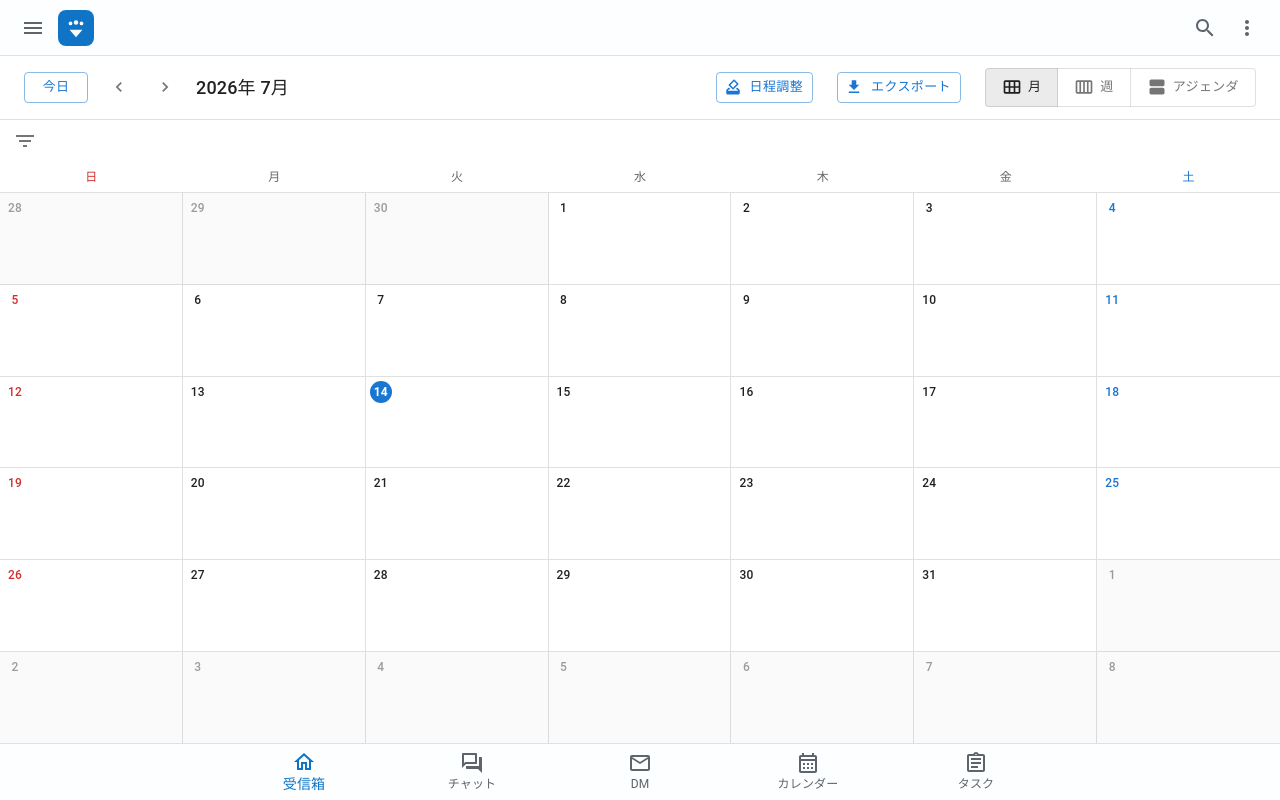
Test case: CalendarPage: モバイルレイアウト › ChannelFilterPanel の表示制御 › モバイル幅でフィルターボタンをタップすると ChannelFilterPanel が Drawer として開く
Click the button named "フィルター" at (25, 141), box [8, 124, 42, 158]
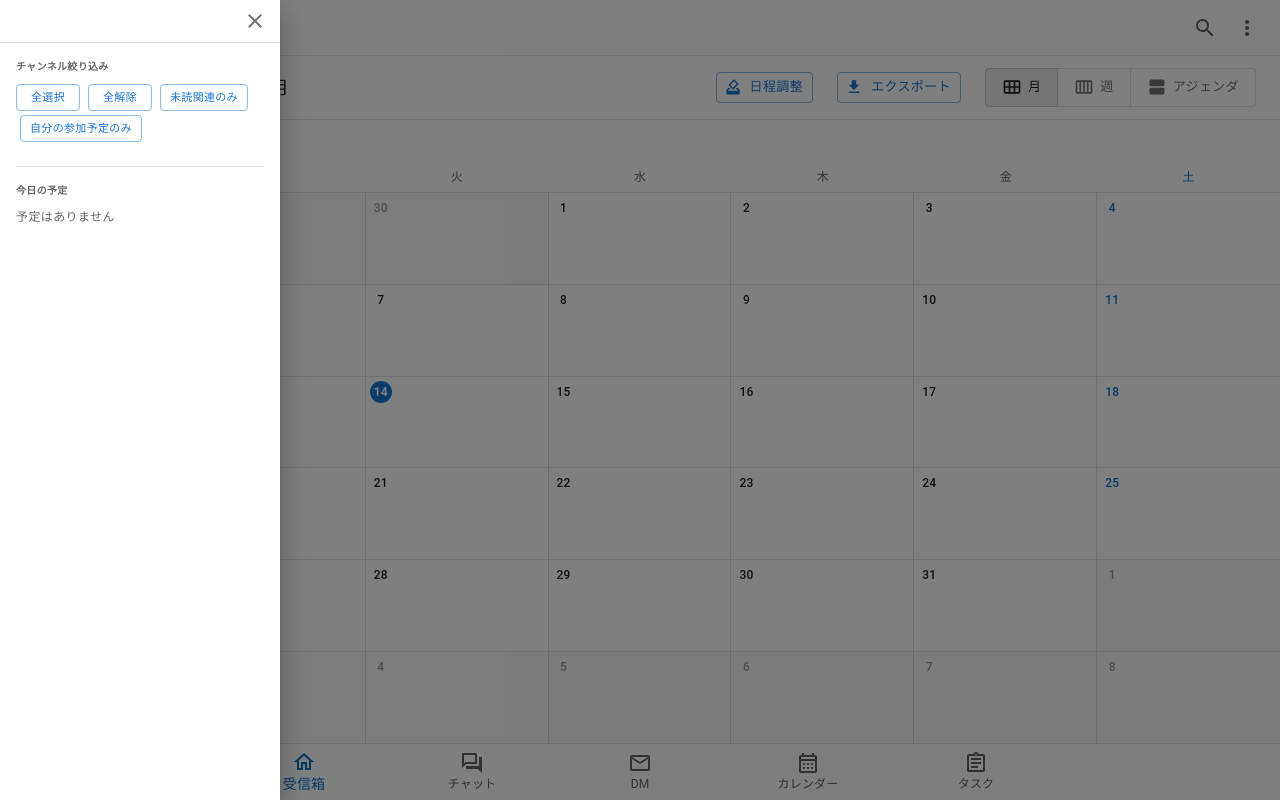
Check: the element with test id "channel-filter-panel" is shown, box [16, 61, 248, 224]
